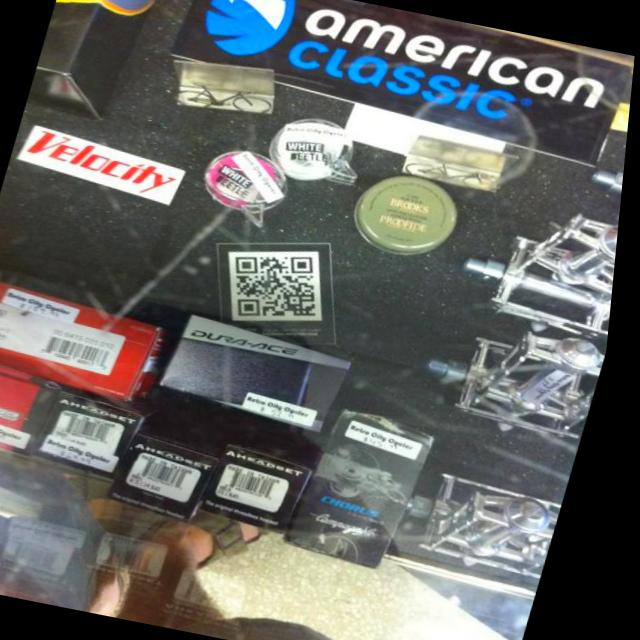qrcode: (224, 244, 339, 332)
